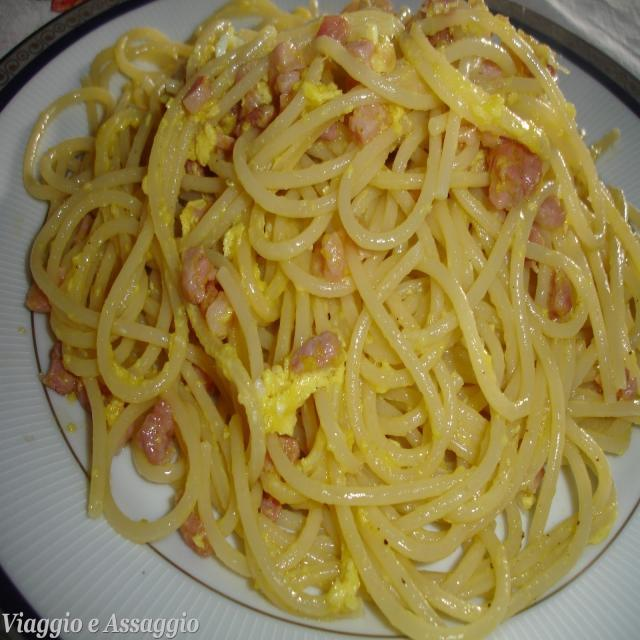Pasta with carbonara sauce: (33, 31, 639, 613)
